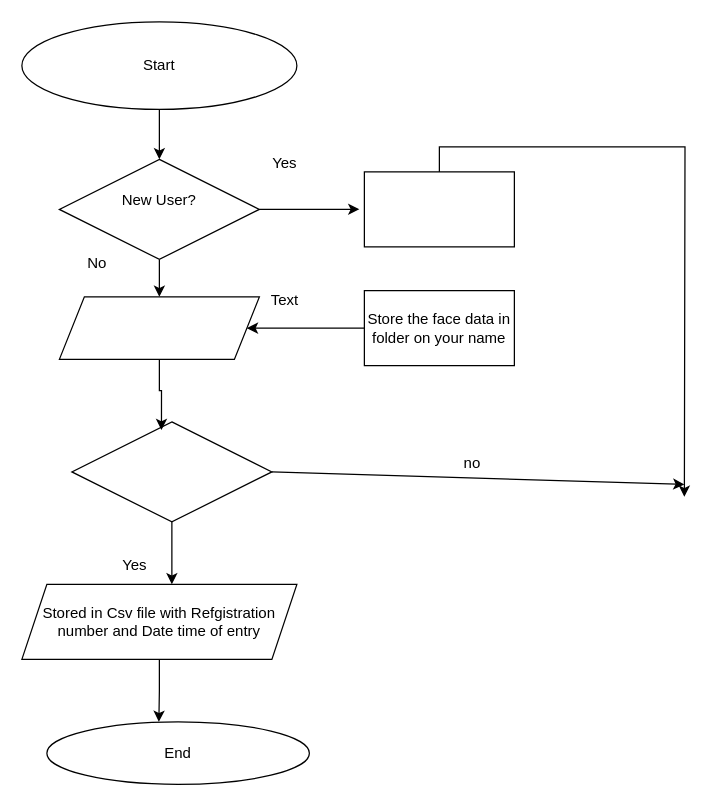
The diagram is 718 pixels wide and 806 high, and some of its shapes have lost their labels. The shapes that lost their labels are listed below. From the top down, each one's centre as x and y in pixels, then its label:
At pixel 438 209: "Give the Photograph".
At pixel 158 327: "Recognize the face".
At pixel 171 471: "Face Recognized".
